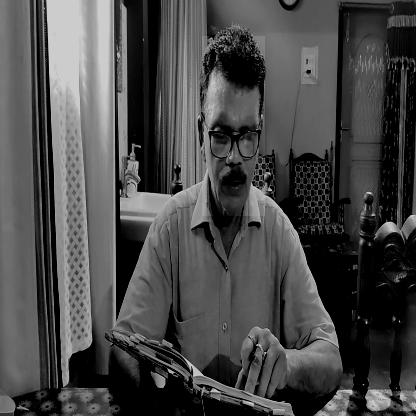Normal: (202, 36, 265, 216)
